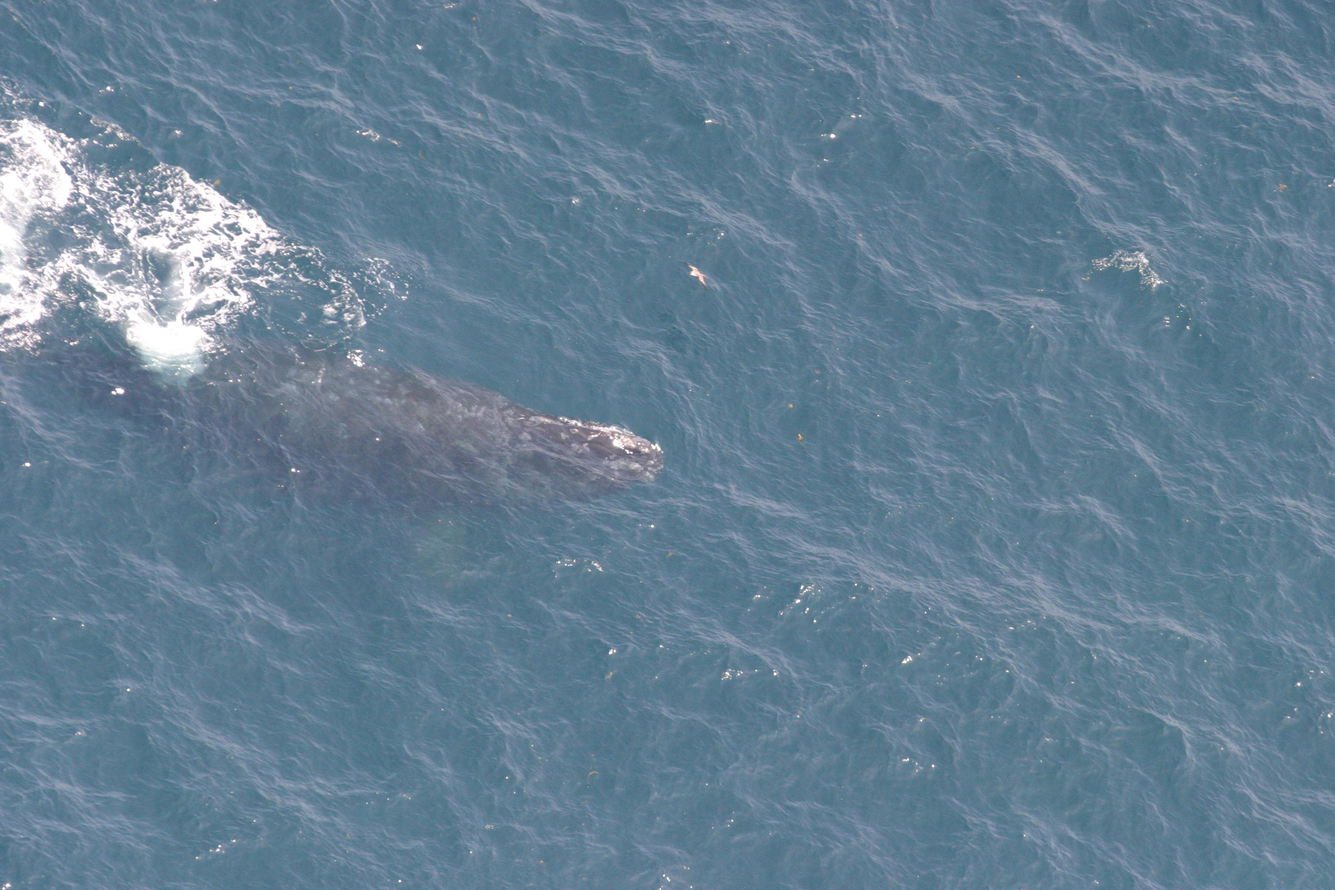whale: (0, 314, 670, 542)
